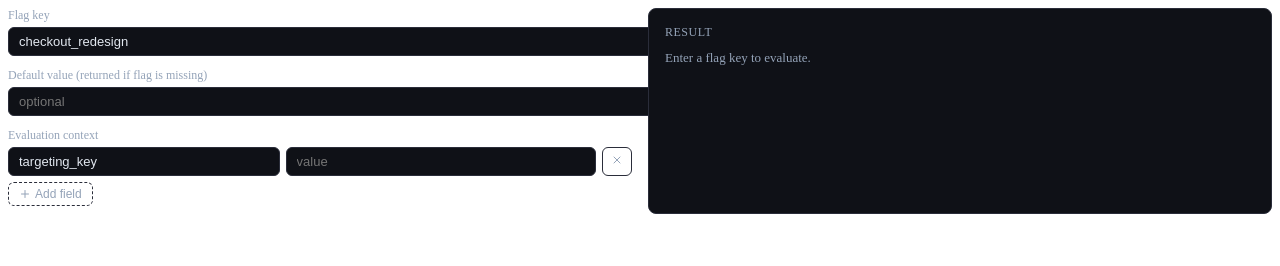
FlagPlayground › evaluates the flag with a typed context and shows the result
Type "42" into the field with placeholder "value".
click(441, 162); type("42")  # box [286, 147, 596, 176]
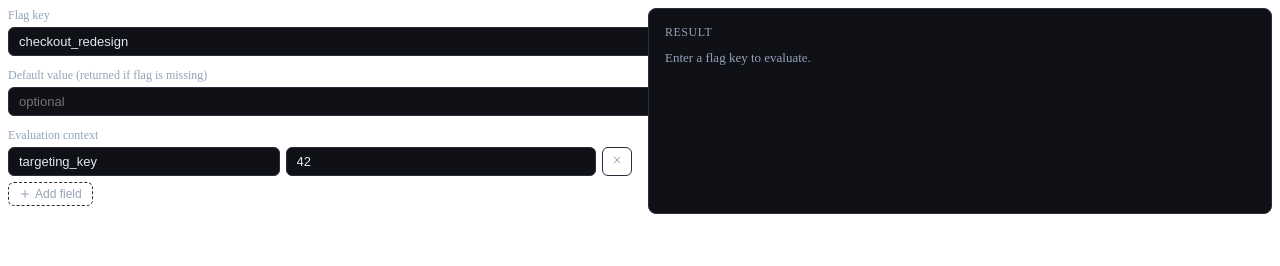
Click the button "Add field".
click(50, 194)  # box [8, 182, 93, 206]
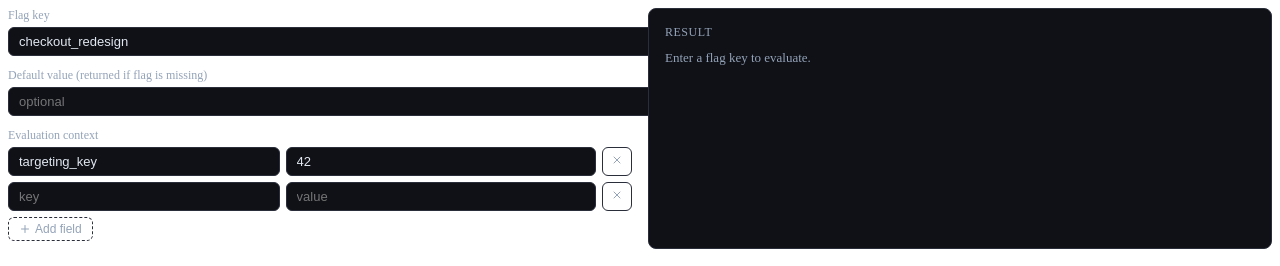
Type "beta" into the field with placeholder "key".
click(144, 196); type("beta")  # box [8, 182, 280, 211]
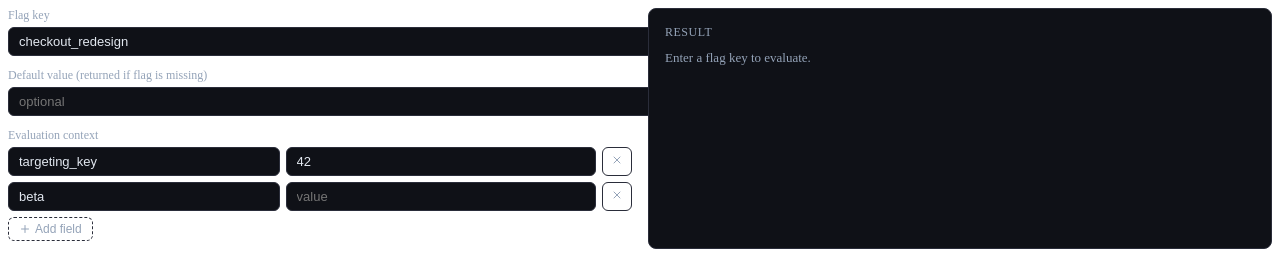
Type "true" into the field with placeholder "value".
click(441, 196); type("true")  # box [286, 182, 596, 211]
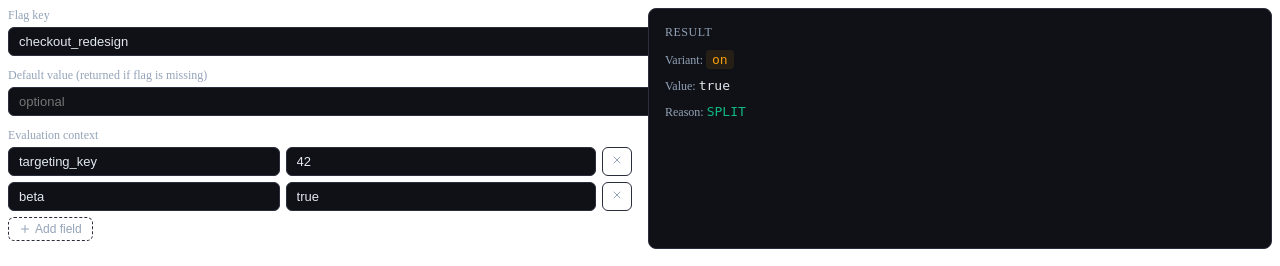
Expected: the text "SPLIT" is shown, [707, 104, 746, 119]
Expected: the text "on" is shown, [706, 50, 734, 69]
Expected: the text "true" is shown, [699, 78, 730, 93]
